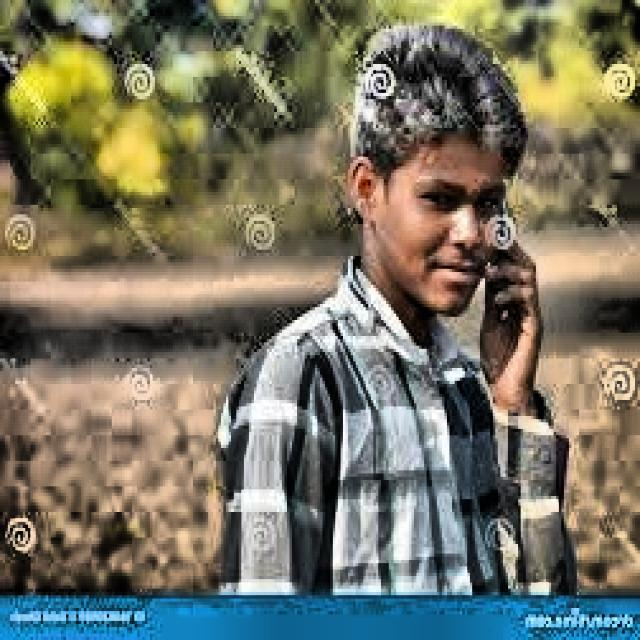Human: (231, 16, 582, 640)
